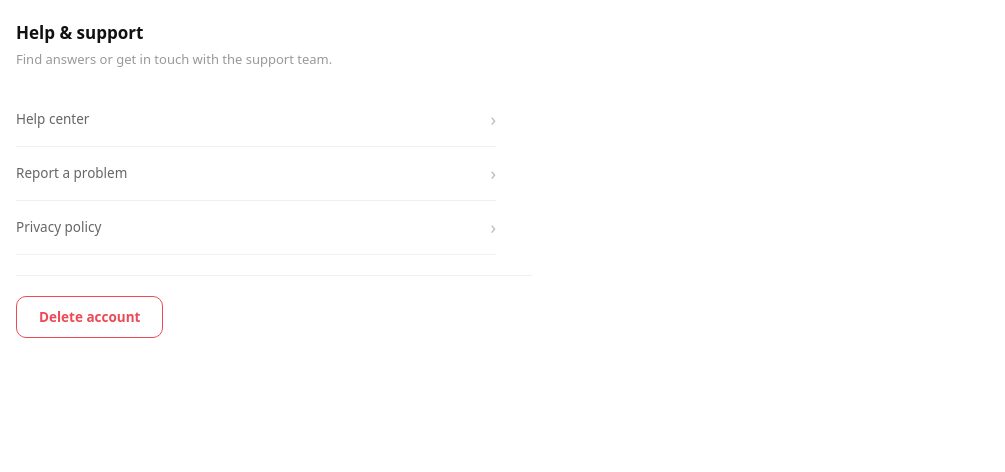
HelpSection › deletes the account with the entered password once confirmed
Click the button "Delete account" at (90, 317), box [16, 296, 163, 338]
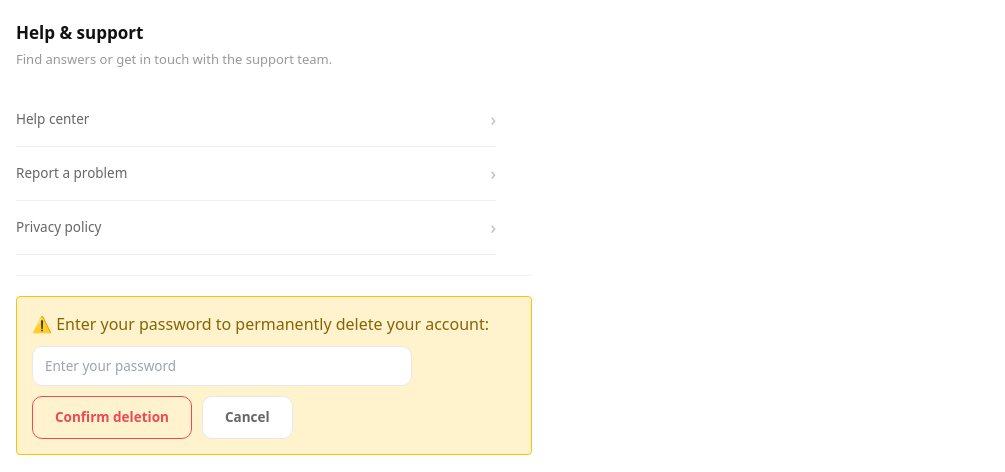
Type "MyPassword123" into the password field with placeholder "Enter your password" at (222, 366), box [32, 346, 412, 386]
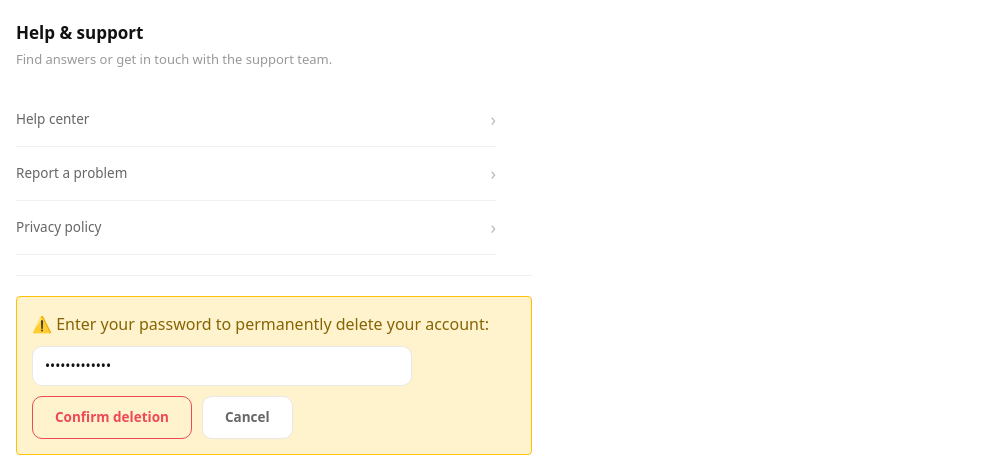
Click the button "Confirm deletion" at (112, 417), box [32, 396, 192, 439]
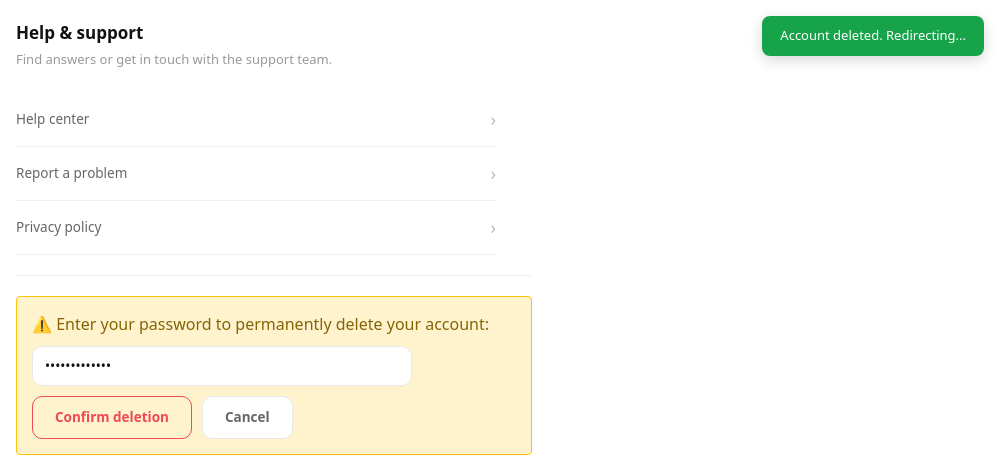
Result: the text "Account deleted. Redirecting..." is shown at [762, 16, 984, 56]
